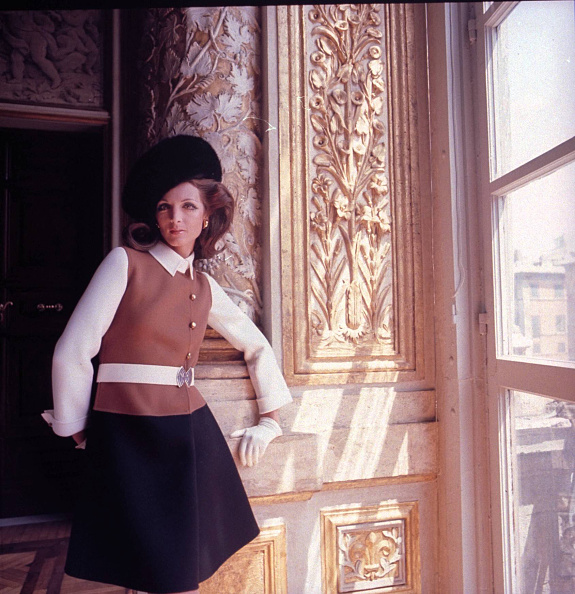em pe: (20, 153, 275, 588)
